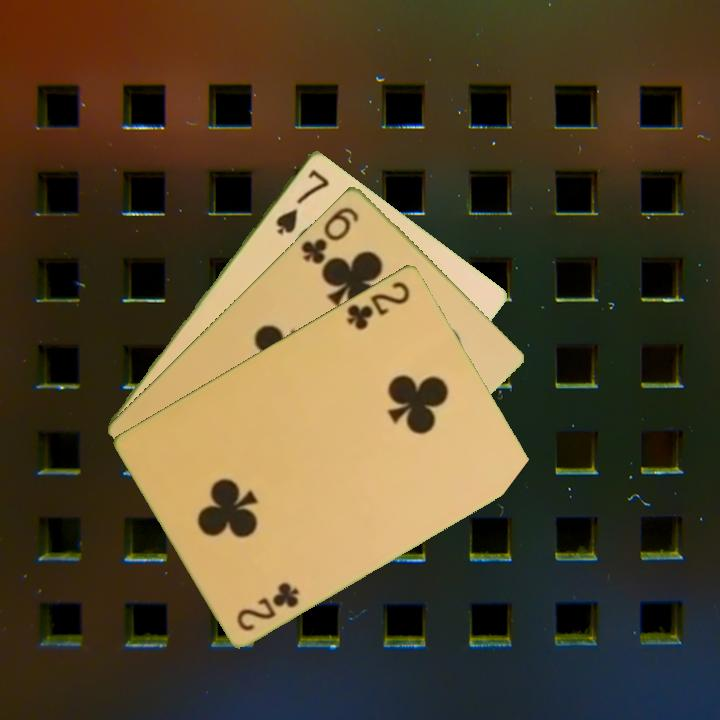2c: (343, 277, 413, 333), (233, 578, 303, 634)
6c: (297, 203, 362, 267)
7s: (272, 165, 332, 237)
